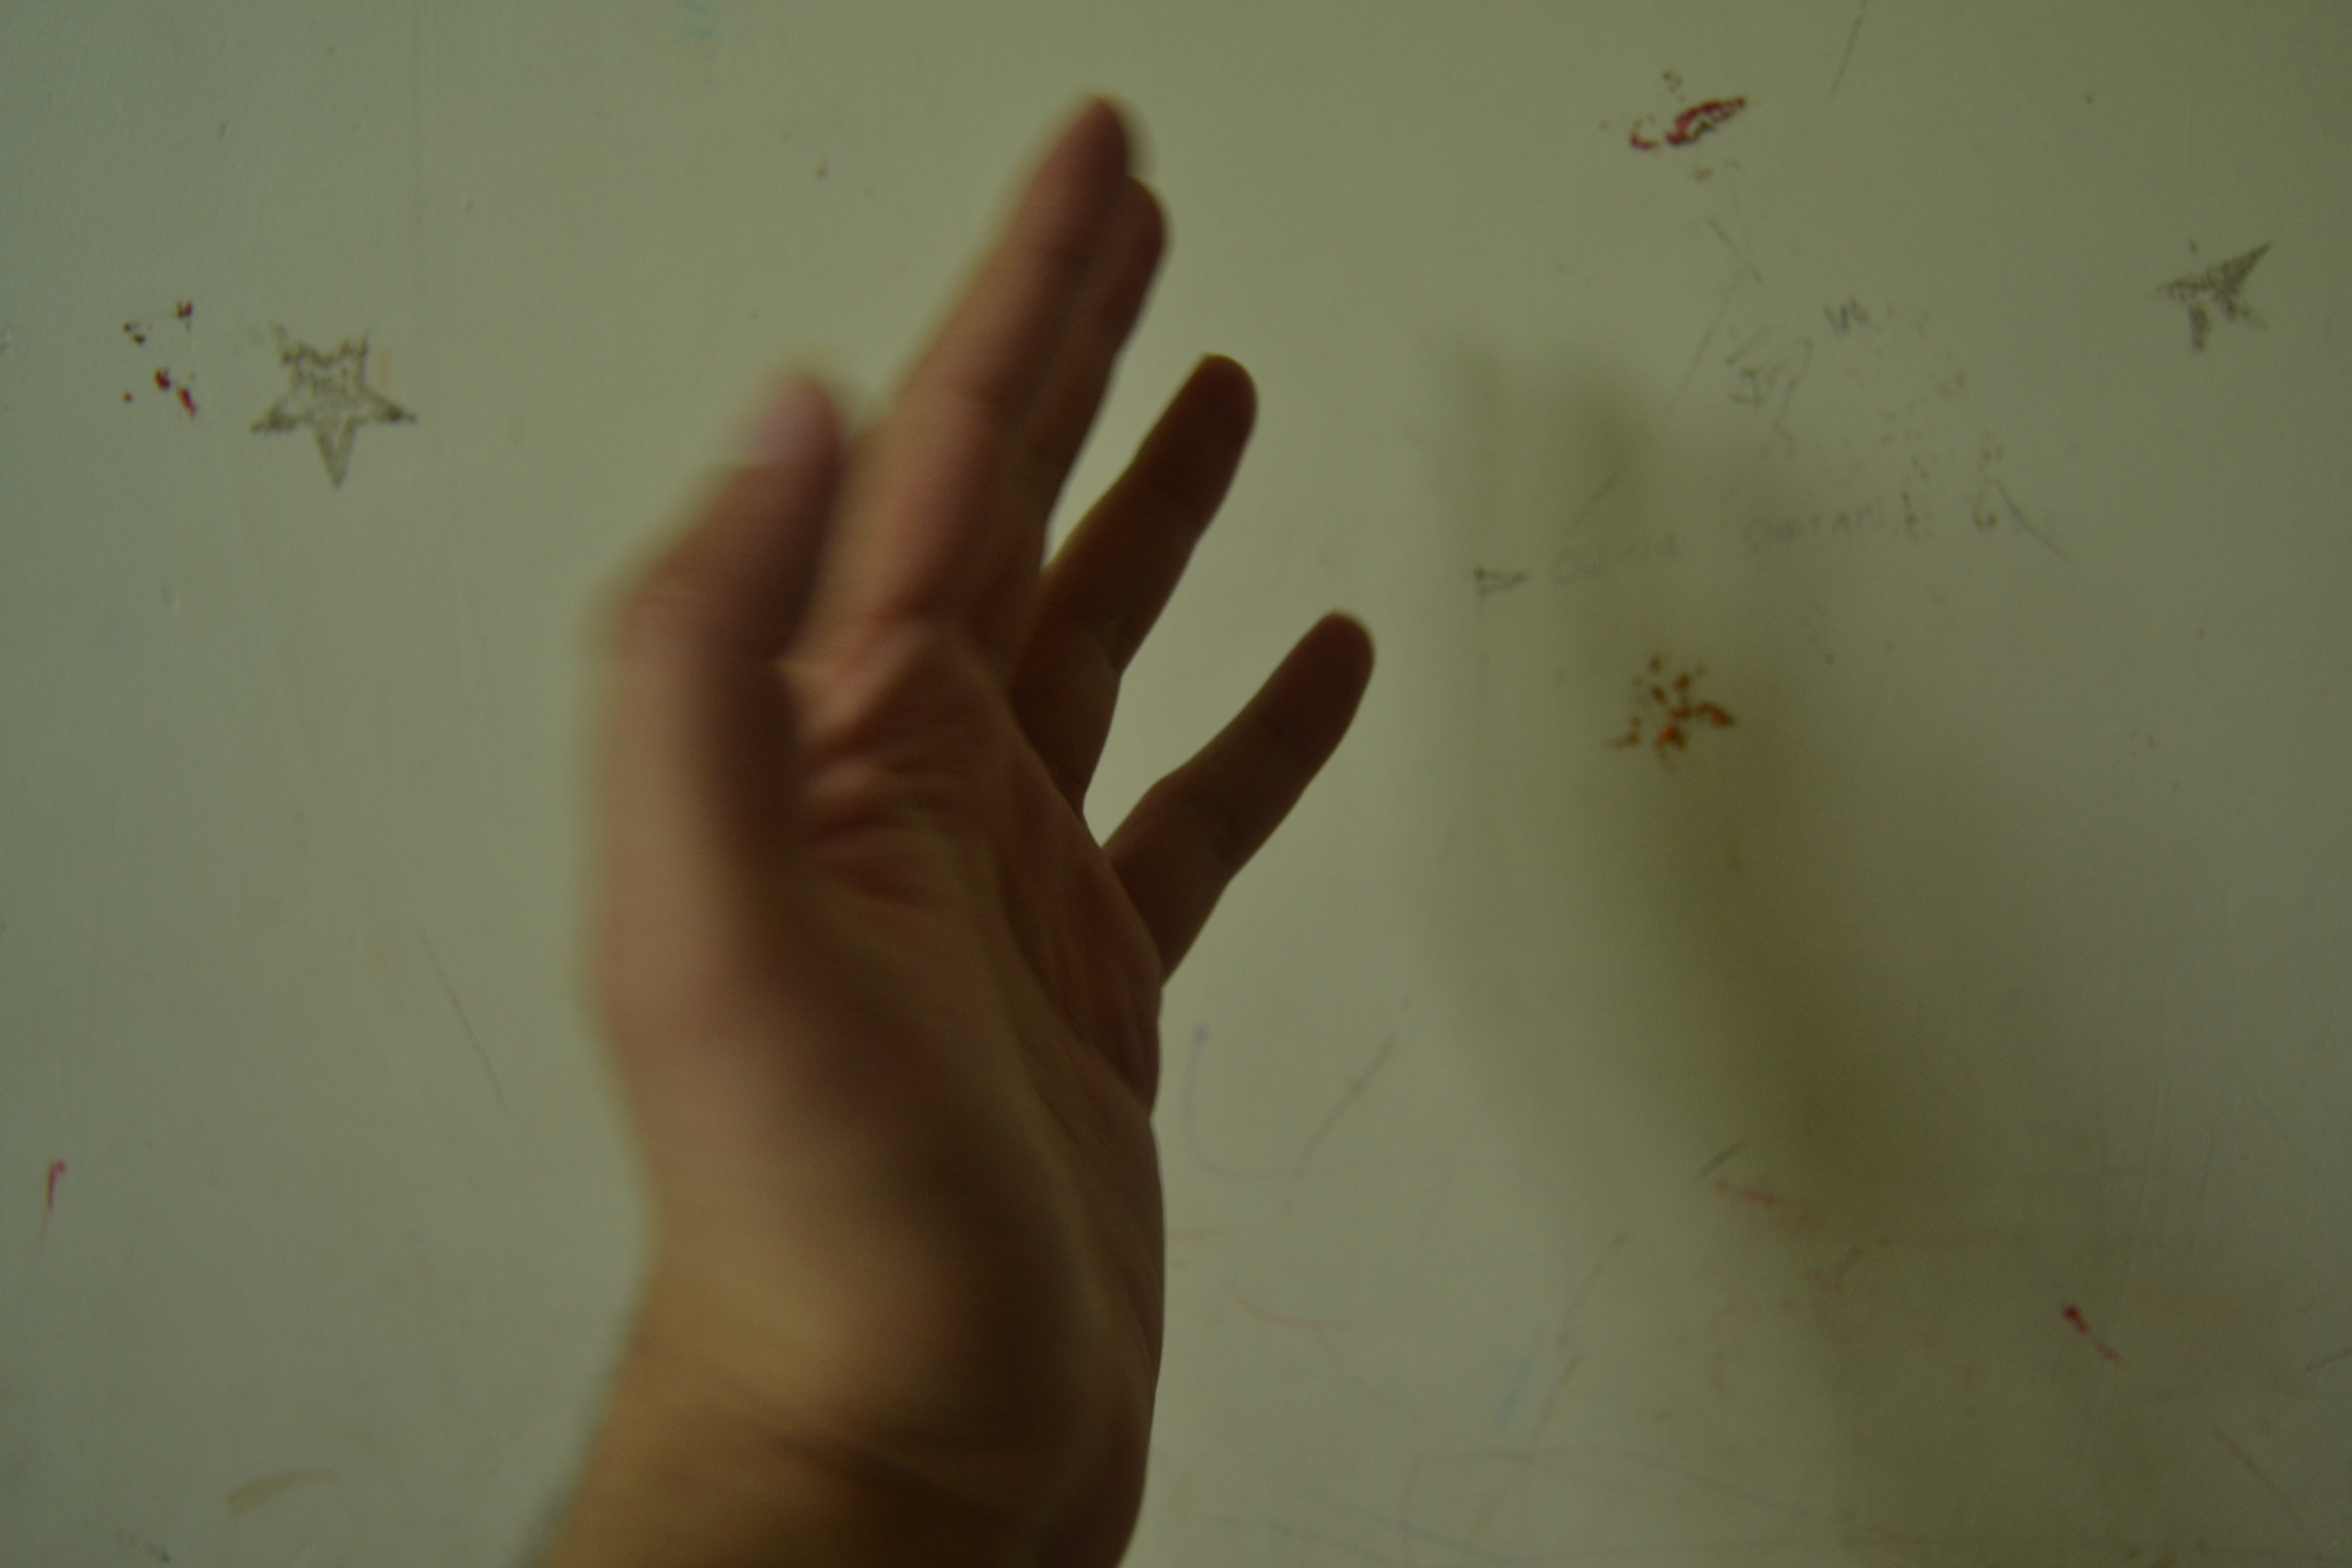move: (507, 42, 1402, 1568)
